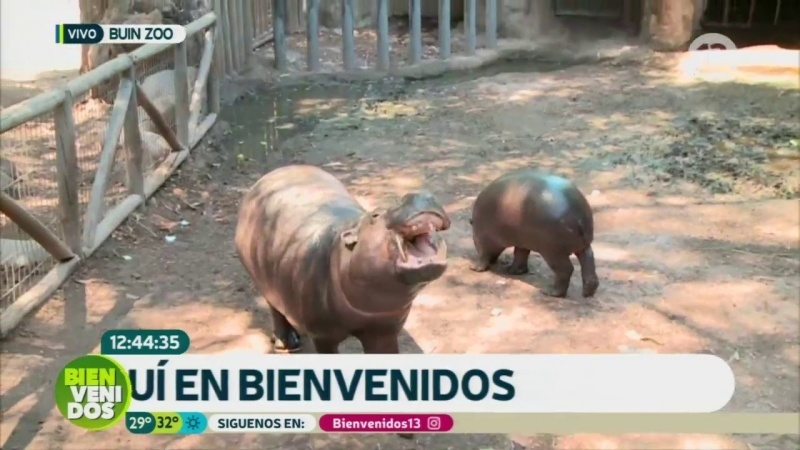hipopotamo: (221, 159, 447, 354), (453, 160, 627, 309)
